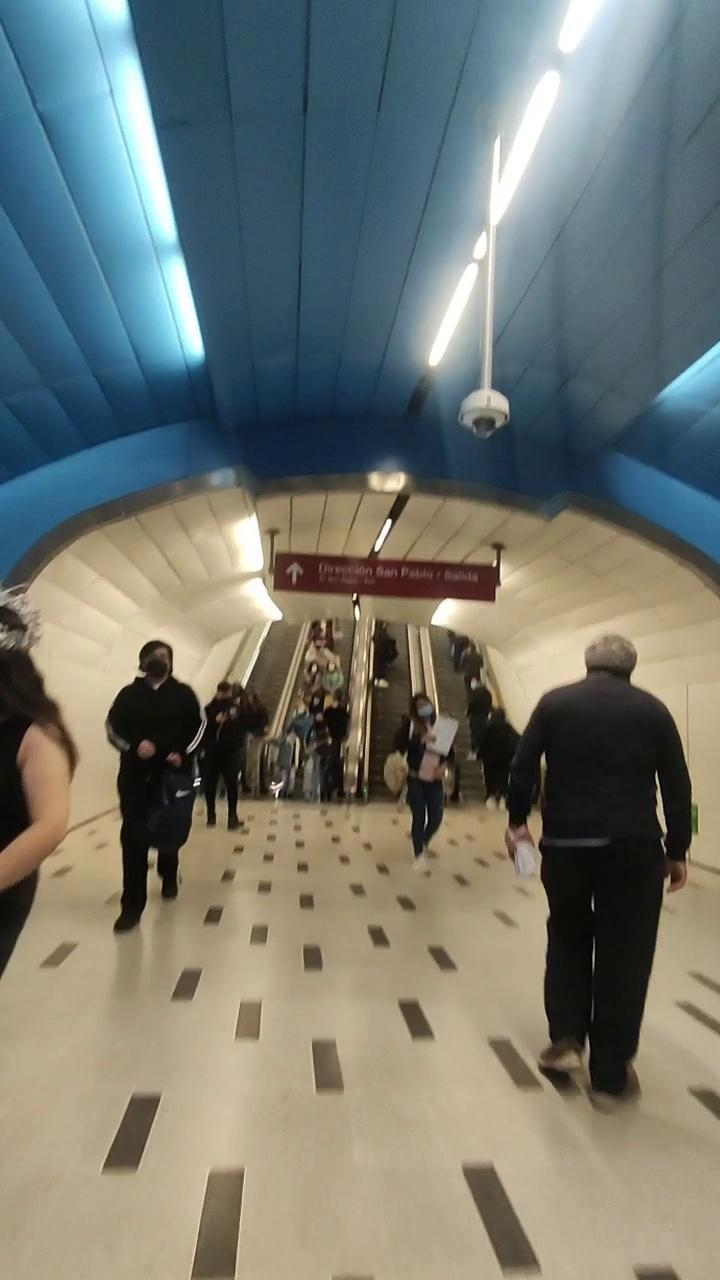up arrow: (285, 560, 304, 588)
